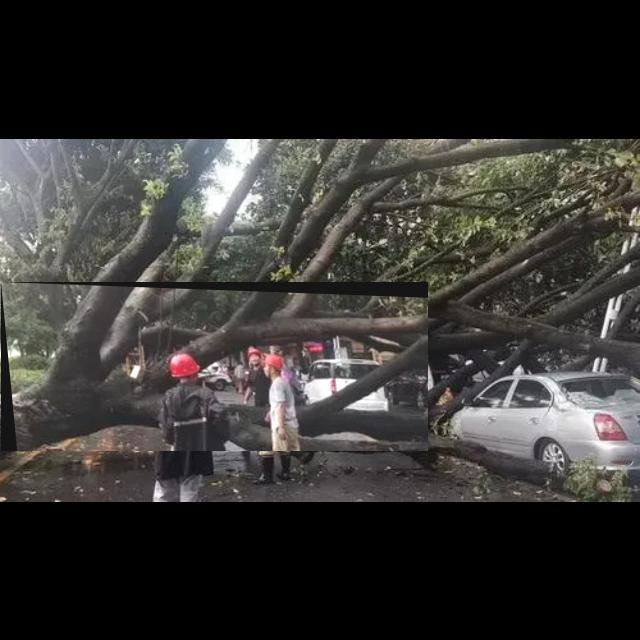fallen_tree: (1, 282, 429, 452)
